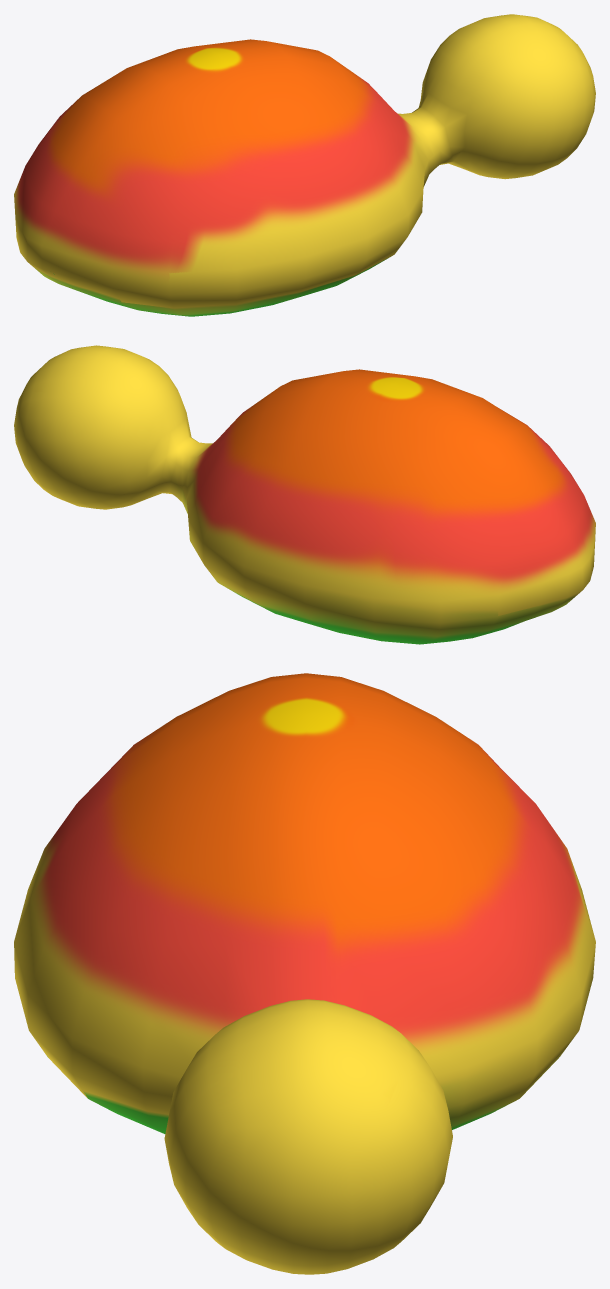
Rendered from turtle.gltf.
3 views of the same model, one above another, from view 1: azimuth 30°, elevation 25°; view 2: azimuth 150°, elevation 25°; view 3: azimuth 270°, elevation 25° (orthographic). The views are drawn at different scales.
Parts seen in each view (by area): view 1: turtle; view 2: turtle; view 3: turtle.
Part boxes in pixels (left/top/right/bottom): turtle: left=14, top=14, right=595, bottom=316; turtle: left=14, top=345, right=595, bottom=644; turtle: left=14, top=673, right=595, bottom=1274.
Bounding box in the file's own units: 4.24 × 1.73 × 2.32.
Materials: 1 (1 with a texture image).
